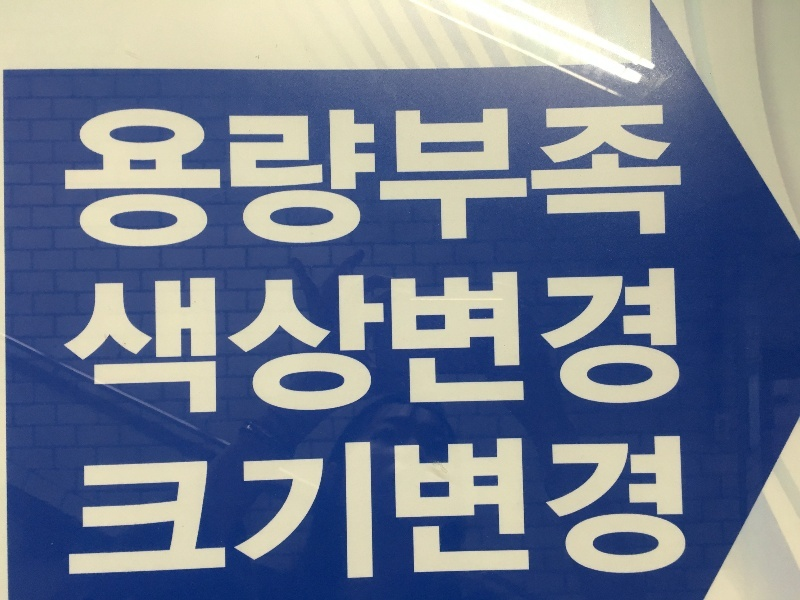text: (97, 414, 112, 584), (113, 414, 128, 584), (129, 414, 144, 584), (145, 414, 160, 584), (161, 414, 176, 584), (177, 414, 192, 584), (193, 414, 208, 584), (209, 414, 224, 584), (225, 414, 240, 584), (241, 414, 256, 584), (257, 414, 272, 584), (273, 414, 288, 584), (289, 414, 304, 584), (305, 414, 320, 584), (321, 414, 336, 584), (337, 414, 352, 584), (353, 414, 368, 584), (369, 414, 384, 584), (385, 414, 400, 584), (401, 414, 416, 584), (417, 414, 432, 584), (433, 414, 448, 584), (449, 414, 464, 584), (465, 414, 480, 584), (481, 414, 496, 584), (497, 414, 512, 584), (513, 414, 528, 584), (529, 414, 544, 584), (545, 414, 560, 584), (561, 414, 576, 584), (577, 414, 592, 584), (593, 414, 608, 584), (609, 414, 624, 584), (625, 414, 640, 584), (641, 414, 656, 584), (657, 414, 672, 584), (673, 414, 687, 584), (97, 268, 112, 417), (113, 268, 128, 417), (129, 268, 144, 417), (145, 268, 160, 417), (161, 268, 176, 417), (177, 268, 192, 417), (193, 268, 208, 417), (209, 268, 224, 417), (225, 268, 240, 417), (241, 268, 256, 417), (257, 268, 272, 417), (273, 268, 288, 417), (289, 268, 304, 417), (305, 268, 320, 417), (321, 268, 336, 417), (337, 268, 352, 417), (353, 268, 368, 417), (369, 268, 384, 417), (385, 268, 400, 417), (401, 268, 416, 417), (417, 268, 432, 417), (433, 268, 448, 417), (449, 268, 464, 417), (465, 268, 480, 417), (481, 268, 496, 417), (497, 268, 512, 417), (513, 268, 528, 417), (529, 268, 544, 417), (545, 268, 560, 417), (561, 268, 576, 417), (577, 268, 592, 417), (593, 268, 608, 417), (609, 268, 624, 417), (625, 268, 640, 417), (641, 268, 656, 417), (657, 268, 672, 417), (83, 414, 96, 584), (97, 107, 112, 248), (113, 107, 128, 248), (129, 107, 144, 248), (145, 107, 160, 248), (161, 107, 176, 248), (177, 107, 192, 248), (193, 107, 208, 248), (209, 107, 224, 248), (225, 107, 240, 248), (241, 107, 256, 248), (257, 107, 272, 248), (273, 107, 288, 248), (289, 107, 304, 248), (305, 107, 320, 248), (321, 107, 336, 248), (337, 107, 352, 248), (353, 107, 368, 248), (369, 107, 384, 248), (385, 107, 400, 248), (401, 107, 416, 248), (417, 107, 432, 248), (433, 107, 448, 248), (449, 107, 464, 248), (465, 107, 480, 248), (481, 107, 496, 248), (497, 107, 512, 248), (513, 107, 528, 248), (529, 107, 544, 248), (545, 107, 560, 248), (561, 107, 576, 248), (577, 107, 592, 248), (593, 107, 608, 248), (609, 107, 624, 248), (625, 107, 640, 248), (641, 107, 656, 248), (657, 107, 672, 248), (673, 107, 683, 248), (87, 107, 96, 248), (673, 268, 681, 417), (93, 268, 96, 417)
